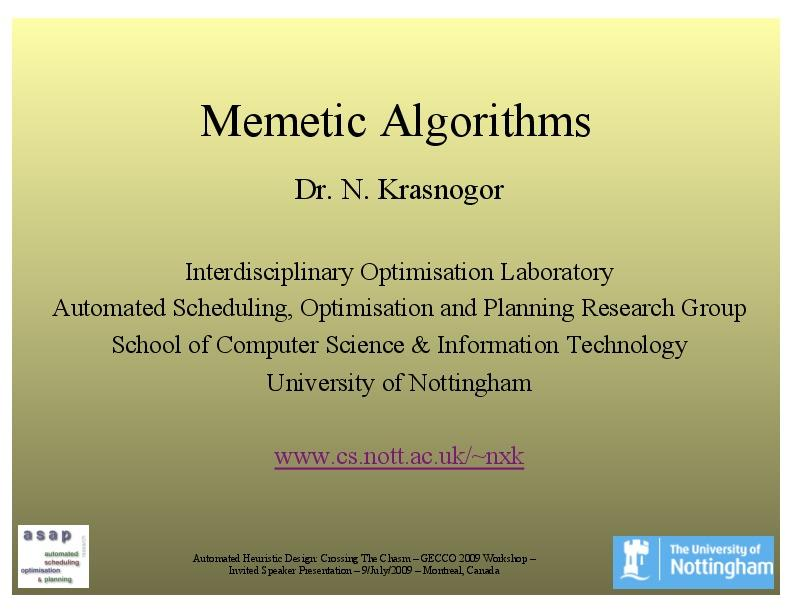paragraph: (36, 225, 760, 417)
title: (198, 93, 632, 208)
